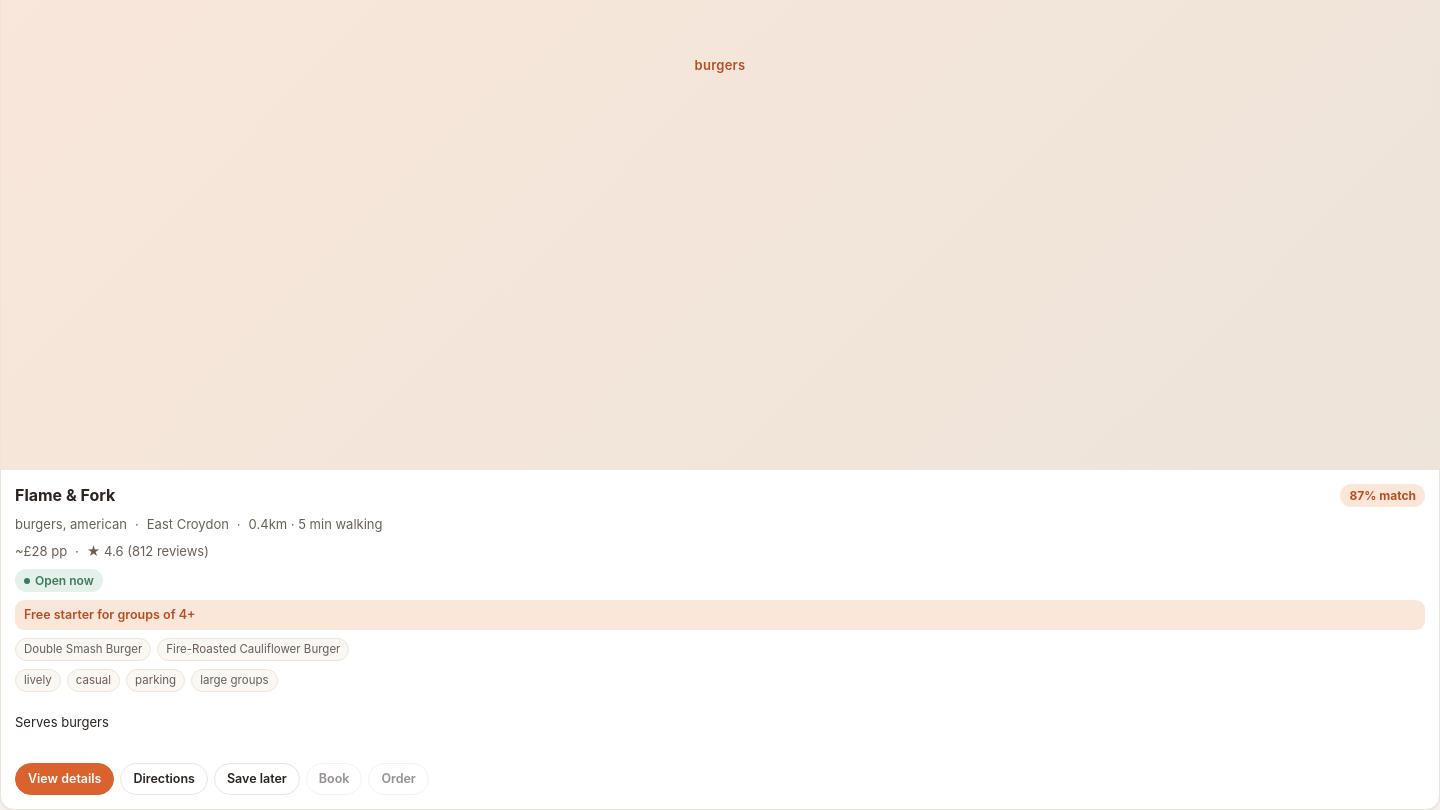
Test case: RestaurantCard › Save (auth-aware) › flips to Saved ✓ on a real successful save, and can be removed again
(page scrolled)
Step 1. Click the button "Save later" → x=257, y=779, box left=214, top=763, right=300, bottom=795
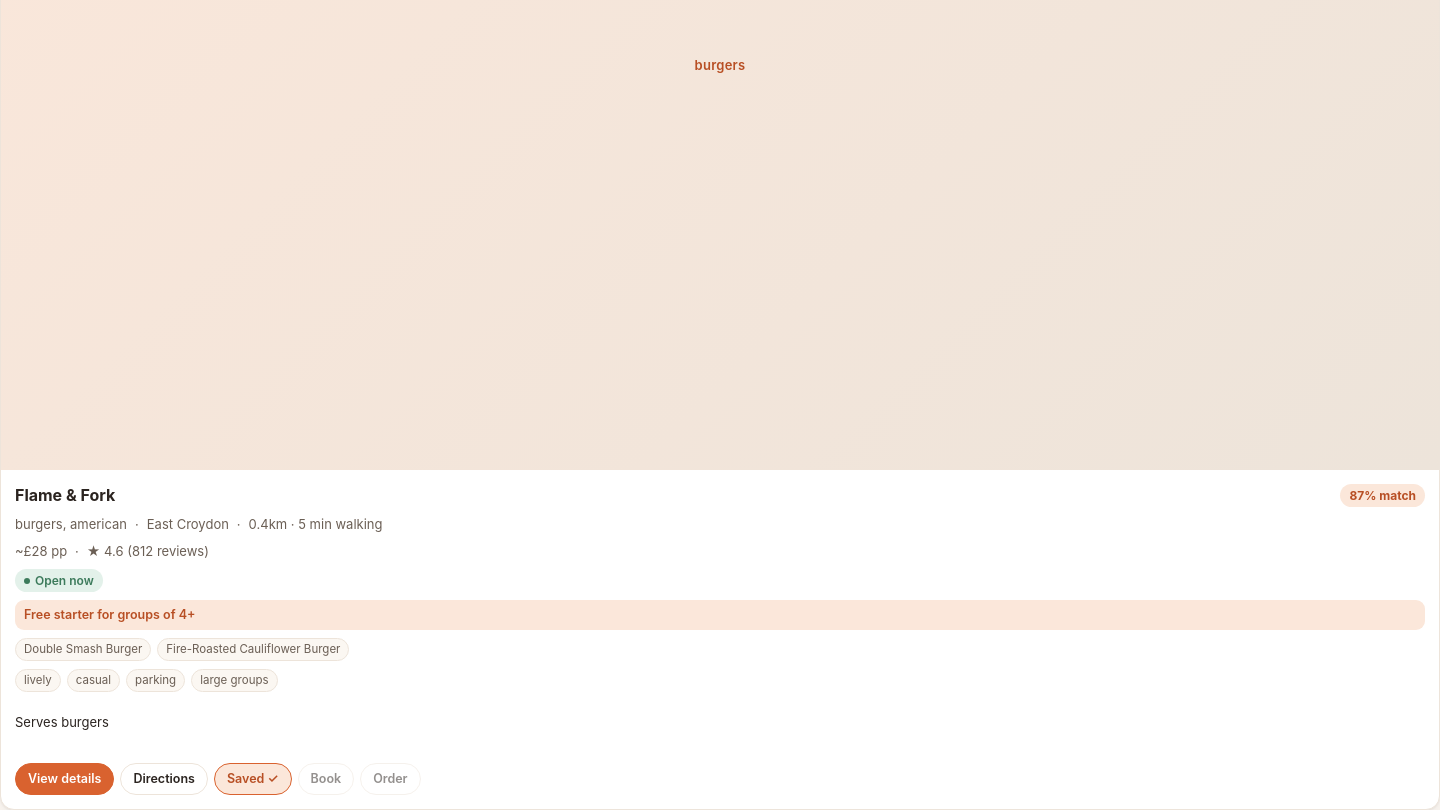
Now the button "Saved ✓" is shown
Step 2. Click the button "Saved ✓" → x=253, y=779, box left=214, top=763, right=292, bottom=795
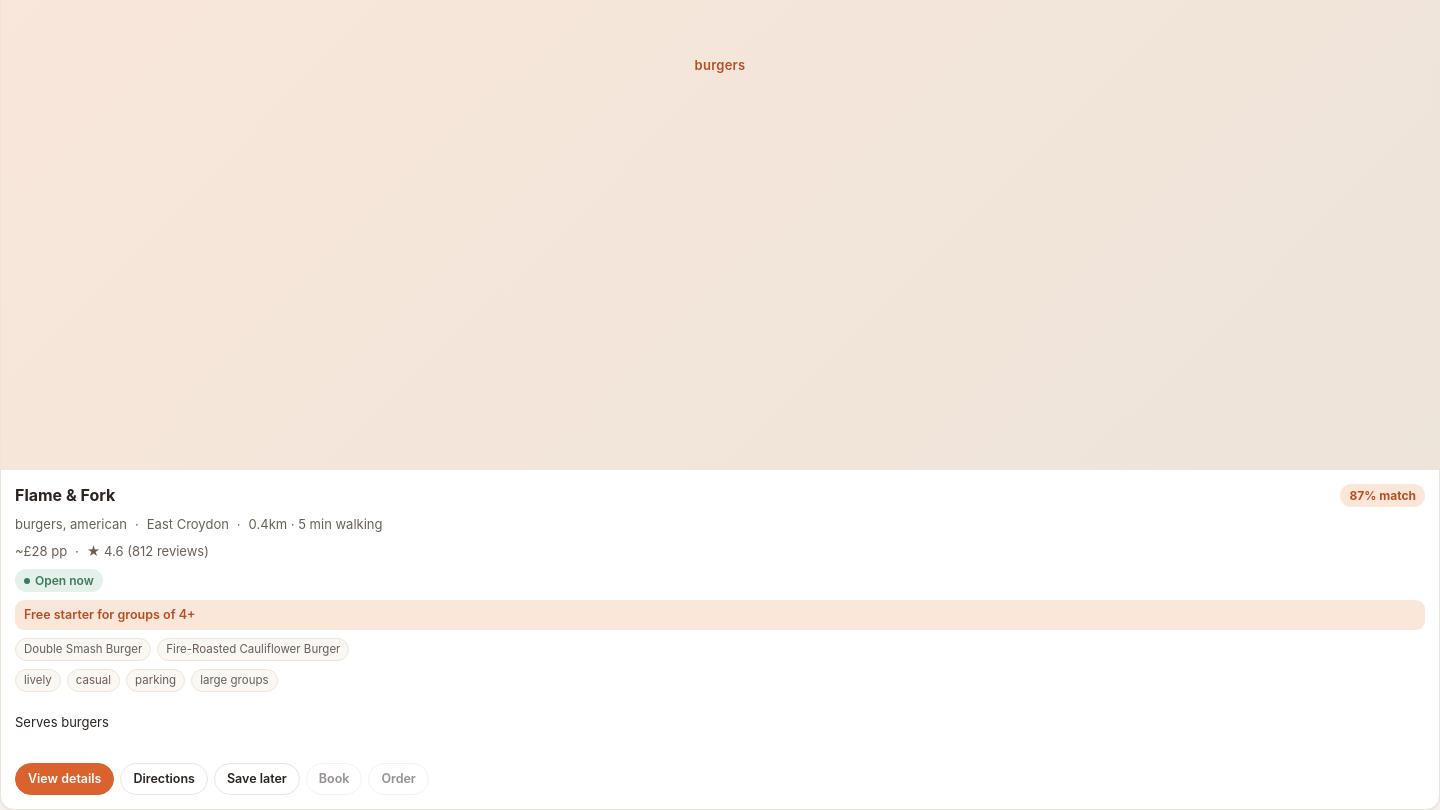
Now the button "Save later" is shown, box left=214, top=763, right=300, bottom=795
